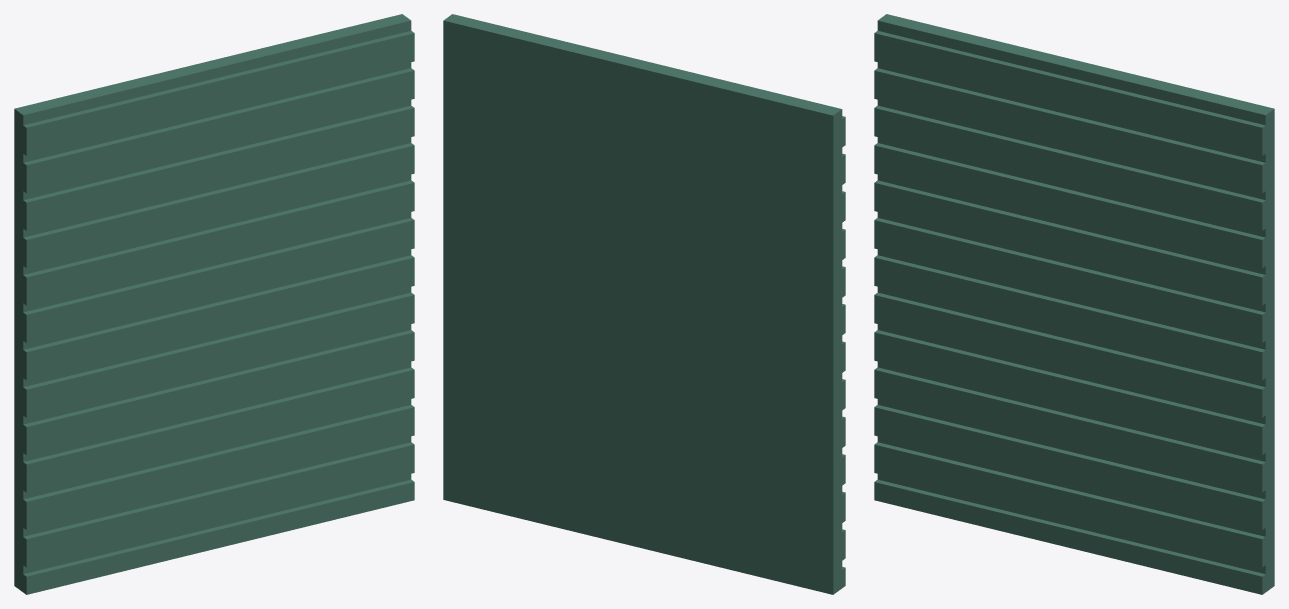
Rendered from SM_Wall_Shutter_01.fbx.
3 renders of one model, left to right at view 1: azimuth 30°, elevation 25°; view 2: azimuth 150°, elevation 25°; view 3: azimuth 330°, elevation 25°, orthographic.
Parts seen in each view (by area): view 1: SM_Wall_Shutter_01; view 2: SM_Wall_Shutter_01; view 3: SM_Wall_Shutter_01.
Boxes of the visible parts, <box> form: SM_Wall_Shutter_01: <box>14,14,414,594</box>; SM_Wall_Shutter_01: <box>443,14,845,594</box>; SM_Wall_Shutter_01: <box>874,14,1274,594</box>.
Size of the model in its own units: 2 by 2.35 by 0.11.
1 material, 1 textured.
